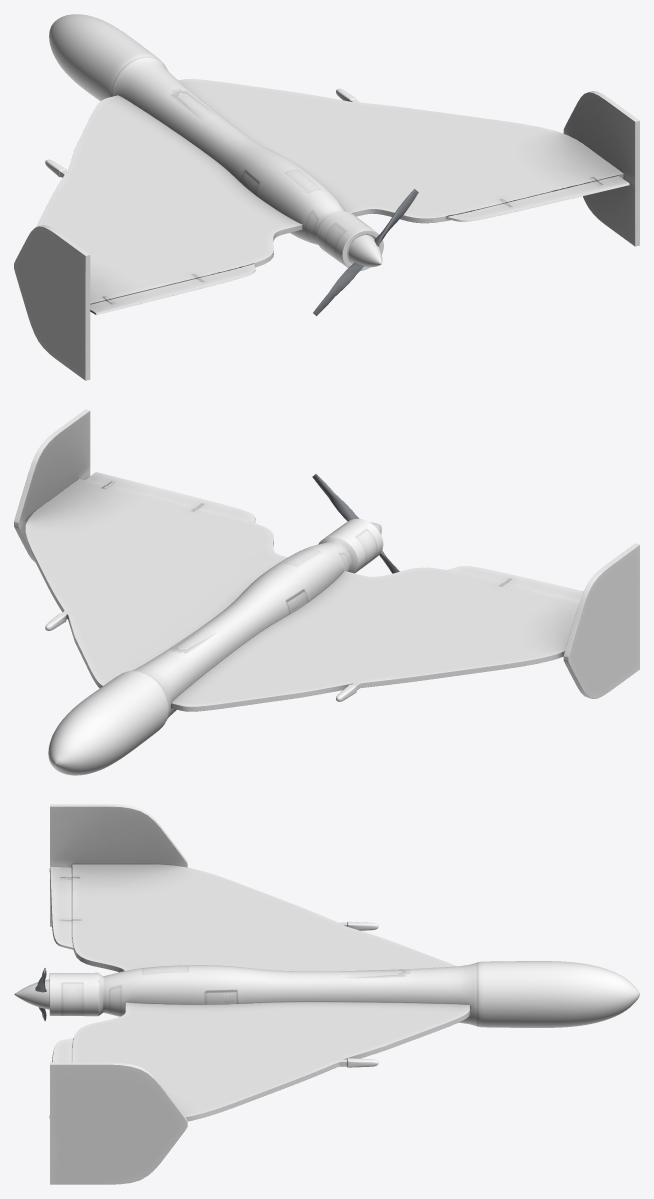
The model's file is shahed-136.glb.
3 renders of one model, top to bottom at view 1: azimuth 30°, elevation 25°; view 2: azimuth 150°, elevation 25°; view 3: azimuth 270°, elevation 25°, orthographic. The views are drawn at different scales.
Visible parts, largest first — view 1: WIBGS, BODY, W_T, W, Polygon_16, Polygon_12; view 2: WIBGS, BODY, W_T, W, Polygon_15; view 3: WIBGS, BODY, W_T, W, Polygon_16.
Part boxes in pixels (left/top/right/bottom): WIBGS: left=36, top=79, right=623, bottom=304; BODY: left=49, top=14, right=383, bottom=270; W_T: left=14, top=91, right=639, bottom=380; W: left=90, top=176, right=629, bottom=315; Polygon_16: left=348, top=235, right=382, bottom=267; Polygon_12: left=313, top=262, right=363, bottom=315; WIBGS: left=25, top=479, right=579, bottom=711; BODY: left=48, top=518, right=383, bottom=775; W_T: left=14, top=409, right=639, bottom=698; W: left=85, top=472, right=583, bottom=601; Polygon_15: left=312, top=474, right=359, bottom=521; WIBGS: left=72, top=864, right=469, bottom=1121; BODY: left=49, top=961, right=639, bottom=1027; W_T: left=50, top=804, right=187, bottom=1184; W: left=49, top=866, right=73, bottom=1118; Polygon_16: left=14, top=979, right=49, bottom=1009.
Bounding box in the file's own units: 7.87 × 1.7 × 8.
Materials: 5 (1 with a texture image).
